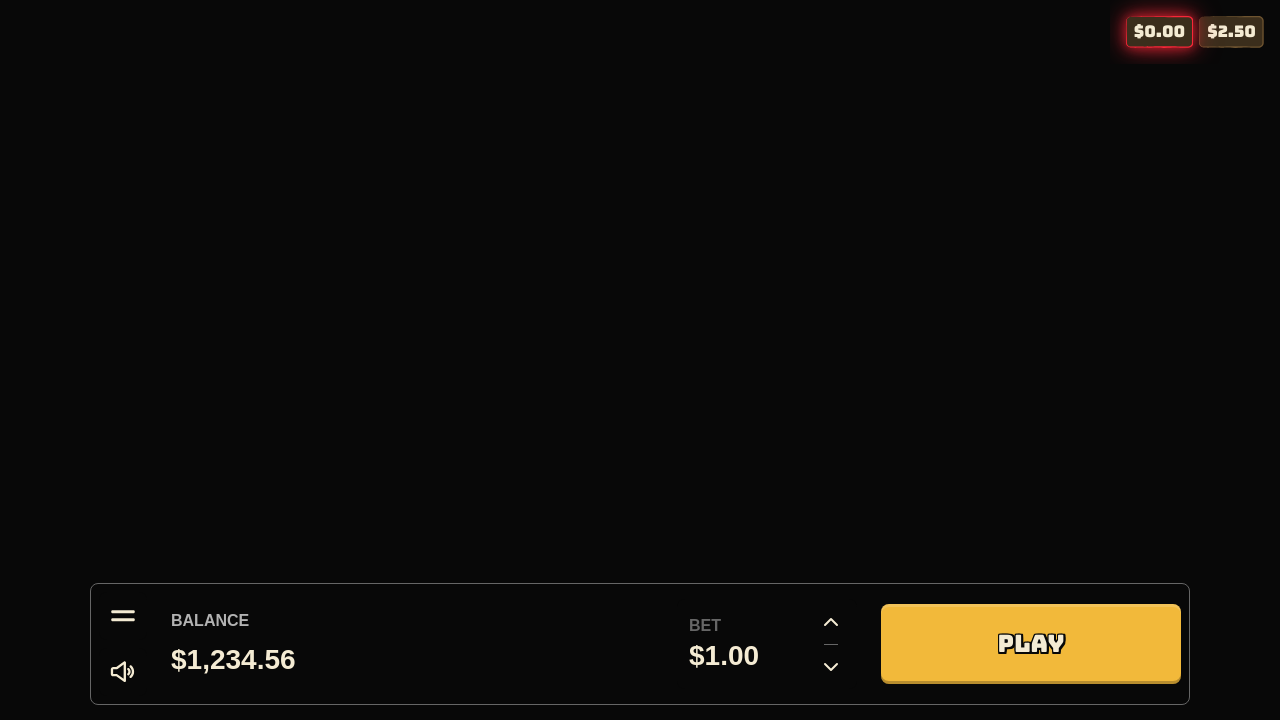
Test: UserInterface › the menu opens bet history, which reloads on open and pages with LOAD MORE
This screenshot has width=1280, height=720.
Expected: the list named "Recent rounds" is shown, [1126,16,1264,48]
Click the button named "Menu": coordinates (123, 616) [99,592,147,640]
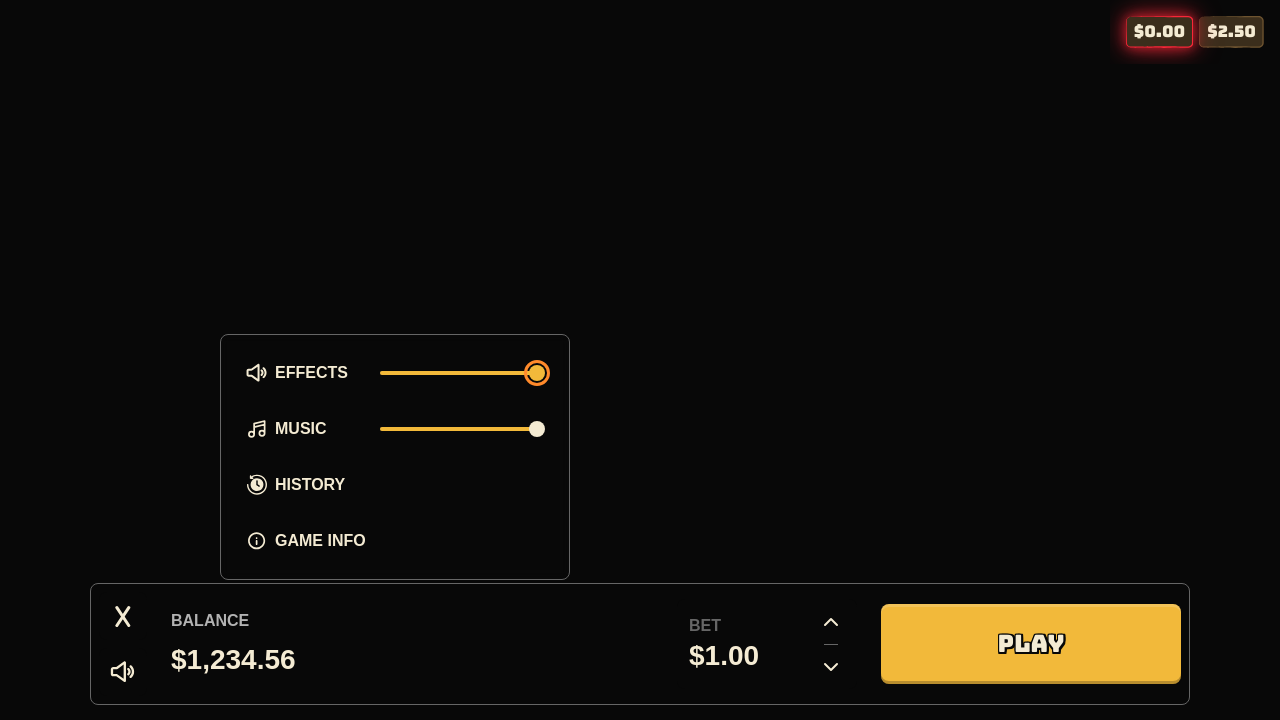
Click the button "History": coordinates (310, 484) [245,457,545,513]
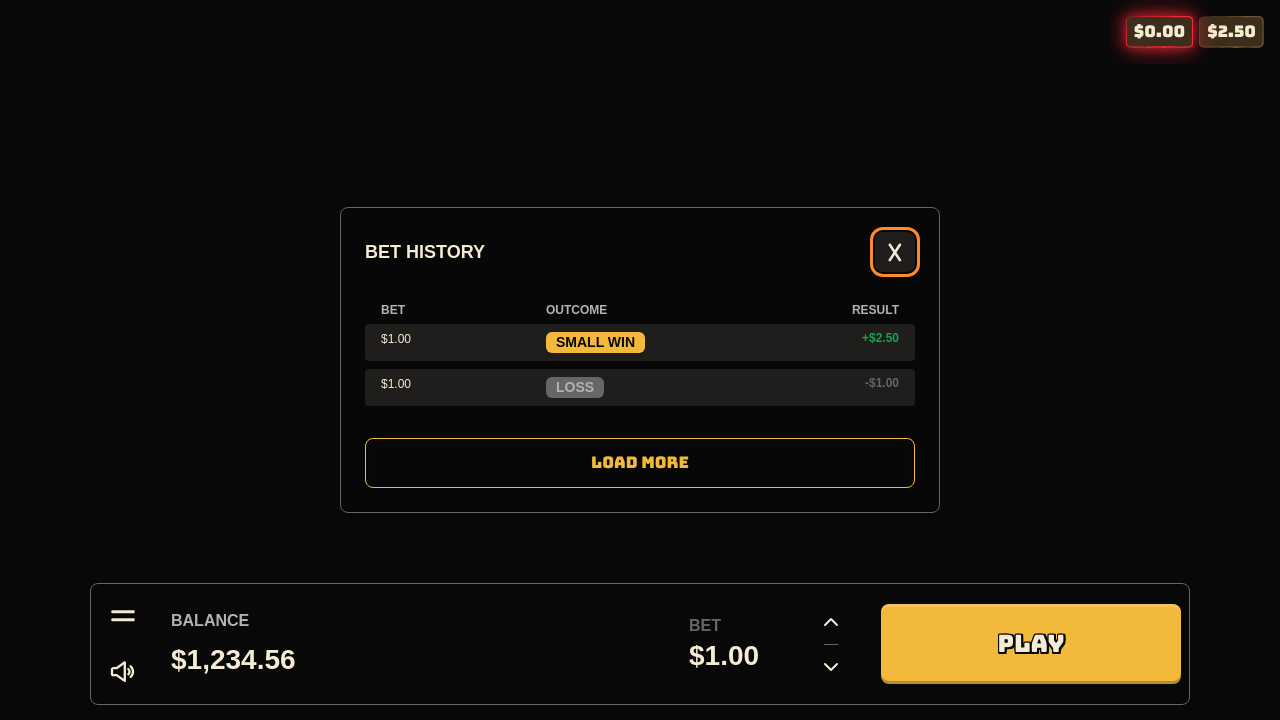
Click the button "LOAD MORE": coordinates (640, 463) [365,438,915,488]
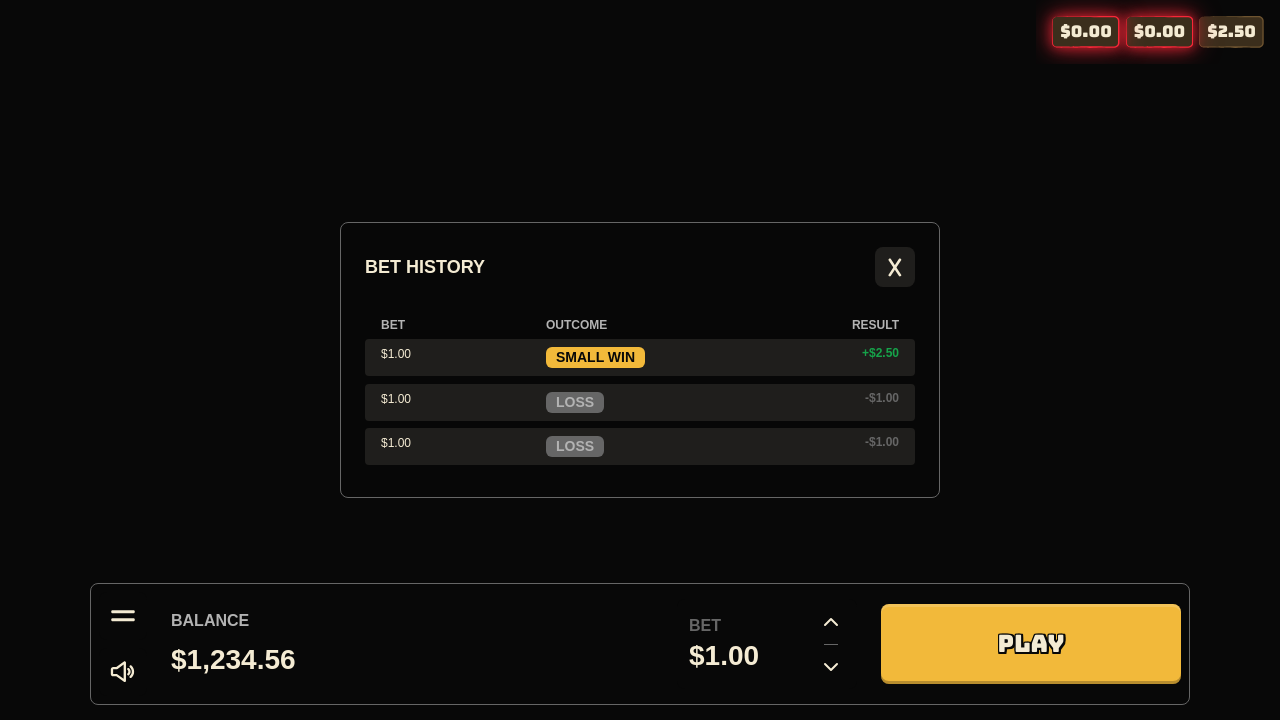
Press Escape
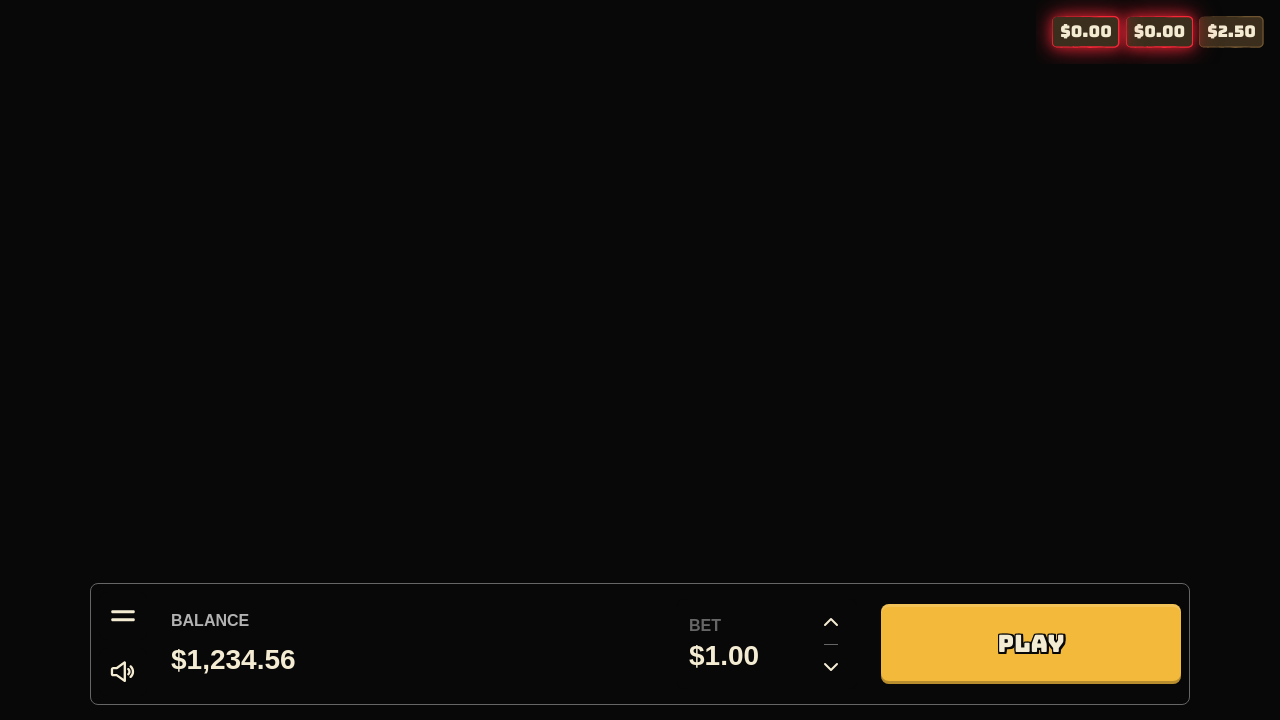
Expected: the heading "BET HISTORY" is gone
